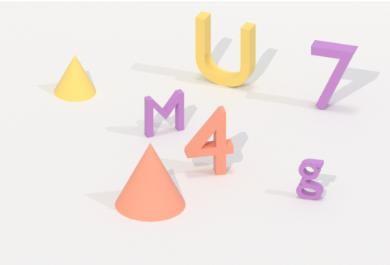0-TamGiac: (48, 51, 101, 106)
4: (112, 142, 187, 229), (183, 104, 237, 180)
7: (305, 35, 361, 114)
M: (139, 84, 189, 141)
U: (192, 8, 260, 90)
g: (292, 154, 326, 203)
